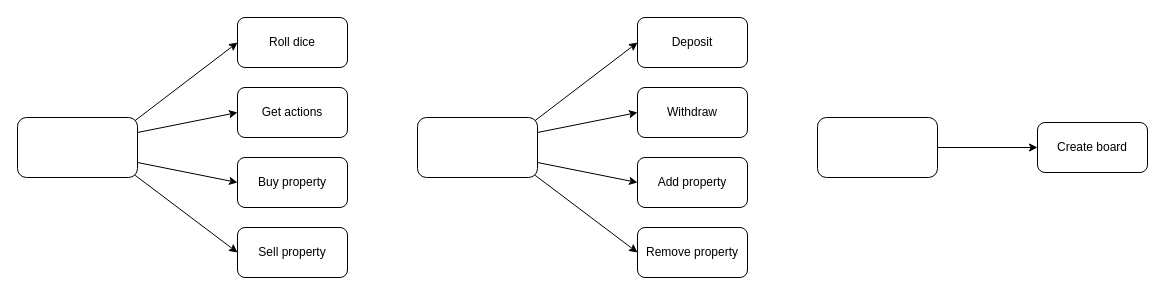
This 1165x295 diagram has some shape labels left out. The box of each missing label's shape, as (x1, y1, x2, y2) in pixels:
Bank: (416, 116, 538, 178)
Parser: (816, 116, 938, 178)
Player: (16, 116, 138, 178)
